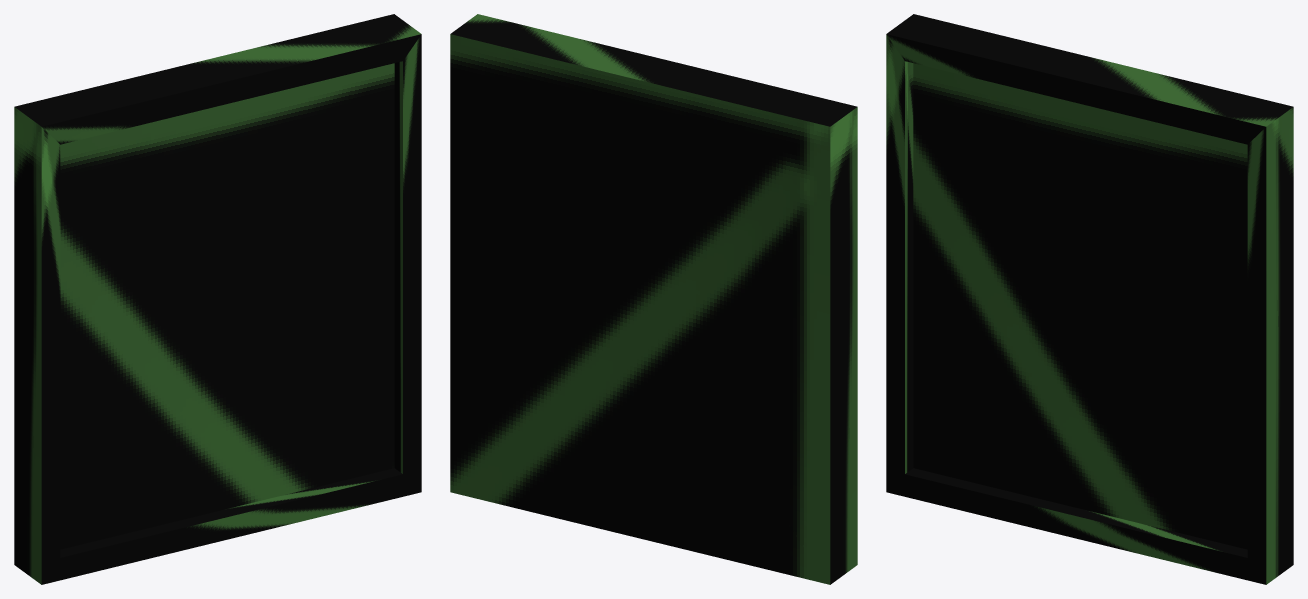
The model's file is tavern_painting.glb.
3 renders of one model, left to right at view 1: azimuth 30°, elevation 25°; view 2: azimuth 150°, elevation 25°; view 3: azimuth 330°, elevation 25°, orthographic.
Parts seen in each view (by area): view 1: tavern_painting; view 2: tavern_painting; view 3: tavern_painting.
Part boxes in pixels (x1,y1,x2,y2): tavern_painting: (14, 14, 421, 584); tavern_painting: (450, 14, 857, 584); tavern_painting: (886, 14, 1293, 584).
Bounding box in the file's own units: 1.44 × 1.66 × 0.1803.
Materials: 1 (1 with a texture image).
